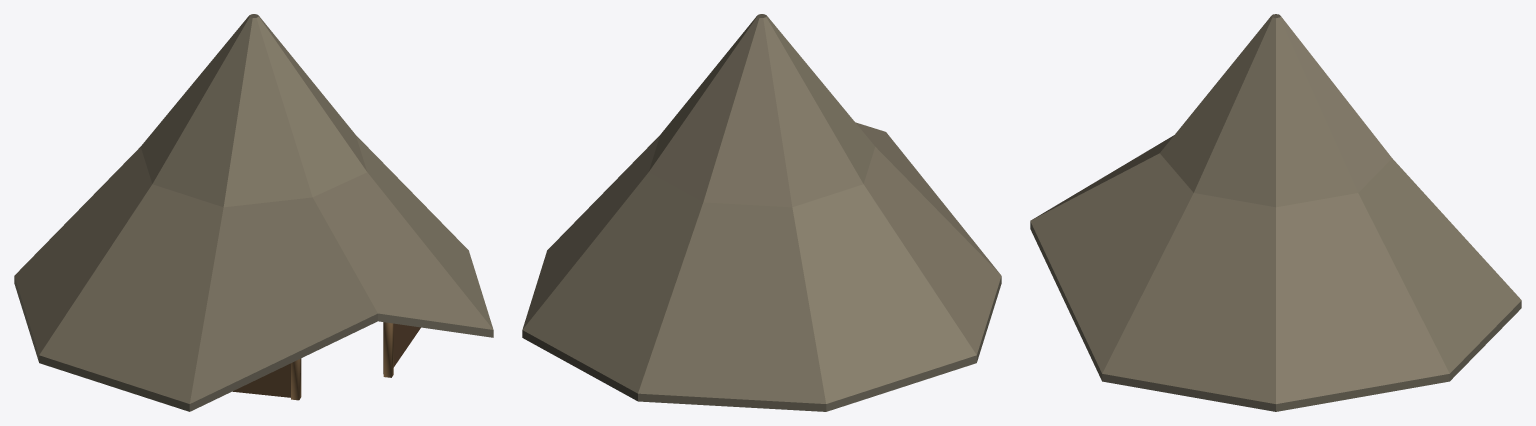
File: swept_thatch_roundhouse_lod2.glb
3 renders of one model, left to right at view 1: azimuth 30°, elevation 25°; view 2: azimuth 150°, elevation 25°; view 3: azimuth 270°, elevation 25°, orthographic.
Visible parts, largest first — view 1: swept_thatch_roundhouse.001; view 2: swept_thatch_roundhouse.001; view 3: swept_thatch_roundhouse.001.
Part boxes in pixels (x1=…): swept_thatch_roundhouse.001: x1=14, y1=14, x2=493, y2=411; swept_thatch_roundhouse.001: x1=522, y1=14, x2=1001, y2=411; swept_thatch_roundhouse.001: x1=1030, y1=14, x2=1521, y2=411.
Bounding box in the file's own units: 5.44 × 3.71 × 5.44.
